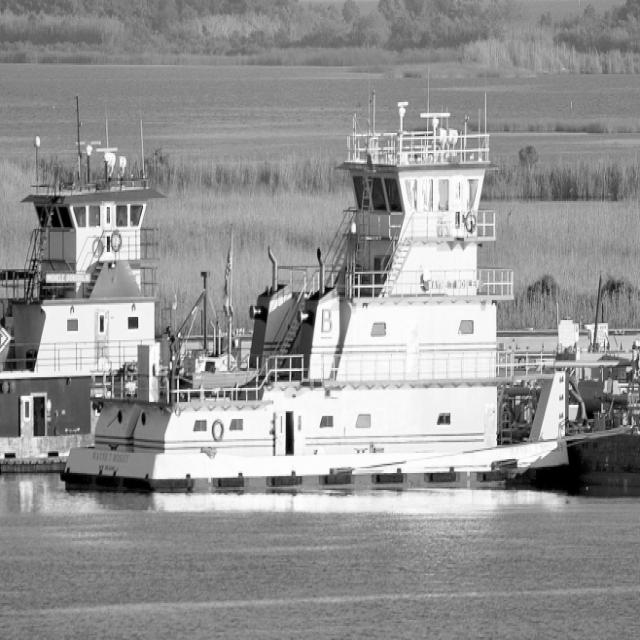tugboat: (54, 97, 576, 517)
